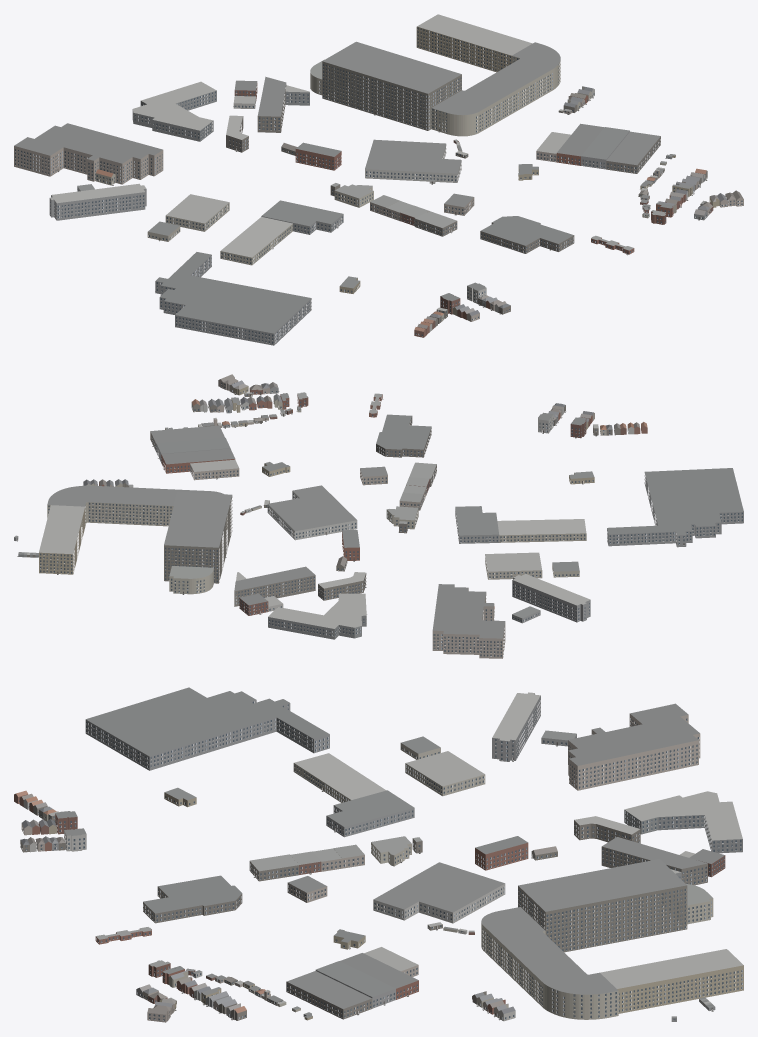
3 views of the same model, one above another, from view 1: azimuth 30°, elevation 25°; view 2: azimuth 150°, elevation 25°; view 3: azimuth 270°, elevation 25° (orthographic). The views are drawn at different scales.
Visible parts, largest first — view 1: way/519656758, way/128620808, way/128620809, way/352407597, way/128620807, way/87944986, way/695681190, way/570531725, way/128973869, way/570531716, way/519656762, way/519656770 (+9 smaller); view 2: way/519656758, way/128620808, way/352407597, way/128620809, way/87944986, way/695681190, way/128620807, way/570531725, way/570531716, way/128973869, way/128973873, way/519656762 (+11 smaller); view 3: way/519656758, way/128620808, way/128620809, way/352407597, way/128620807, way/87944986, way/695681190, way/128973869, way/519656762, way/570531716, way/378764322, way/519656770 (+13 smaller).
Boxes of the visible parts, bbox=[...] form: way/519656758: bbox=[155, 252, 311, 345]; way/128620808: bbox=[322, 41, 461, 130]; way/128620809: bbox=[431, 42, 560, 136]; way/352407597: bbox=[14, 123, 163, 184]; way/128620807: bbox=[416, 14, 532, 72]; way/87944986: bbox=[365, 139, 461, 182]; way/695681190: bbox=[132, 81, 216, 141]; way/570531725: bbox=[49, 183, 146, 220]; way/128973869: bbox=[480, 216, 574, 253]; way/570531716: bbox=[220, 217, 292, 265]; way/519656762: bbox=[261, 200, 343, 234]; way/519656770: bbox=[165, 194, 229, 231]; way/519656758: bbox=[607, 468, 743, 547]; way/128620808: bbox=[164, 492, 232, 583]; way/352407597: bbox=[432, 584, 505, 658]; way/128620809: bbox=[47, 485, 227, 529]; way/87944986: bbox=[267, 485, 357, 540]; way/695681190: bbox=[268, 593, 366, 639]; way/128620807: bbox=[39, 505, 85, 574]; way/570531725: bbox=[512, 574, 590, 622]; way/570531716: bbox=[497, 519, 586, 542]; way/128973869: bbox=[376, 414, 431, 457]; way/128973873: bbox=[234, 566, 315, 606]; way/519656762: bbox=[455, 506, 499, 543]; way/519656758: bbox=[85, 687, 329, 770]; way/128620808: bbox=[518, 859, 687, 952]; way/128620809: bbox=[481, 907, 618, 1019]; way/352407597: bbox=[568, 703, 700, 790]; way/128620807: bbox=[600, 949, 743, 1013]; way/87944986: bbox=[373, 862, 505, 923]; way/695681190: bbox=[624, 791, 742, 853]; way/128973869: bbox=[143, 875, 242, 923]; way/519656762: bbox=[326, 790, 414, 837]; way/570531716: bbox=[293, 753, 386, 802]; way/378764322: bbox=[286, 971, 372, 1019]; way/519656770: bbox=[405, 751, 485, 796].
Size of the model in its own units: 546 by 35.75 by 526.
